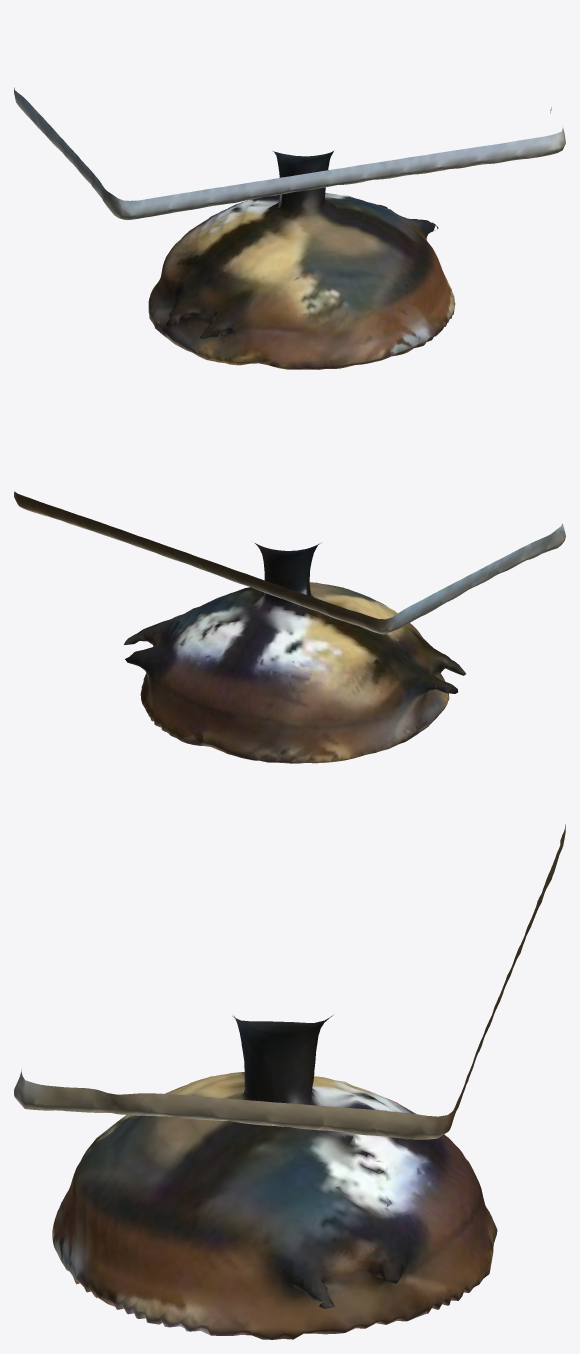
The model's file is littleguy.gltf.
3 views of the same model, one above another, from view 1: azimuth 30°, elevation 25°; view 2: azimuth 150°, elevation 25°; view 3: azimuth 270°, elevation 25° (orthographic). The views are drawn at different scales.
Visible parts, largest first — view 1: Node; view 2: Node; view 3: Node.
Part boxes in pixels (x1=…): Node: x1=14, y1=87, x2=565, y2=369; Node: x1=14, y1=491, x2=565, y2=763; Node: x1=14, y1=824, x2=565, y2=1339.
Size of the model in its own units: 0.2243 by 0.0948 by 0.1604.
Materials: 1 (1 with a texture image).
